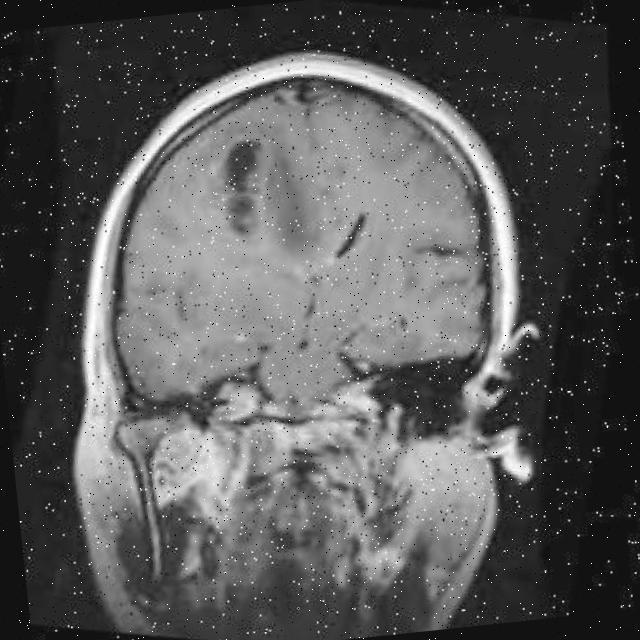MCI: (191, 130, 308, 267)
